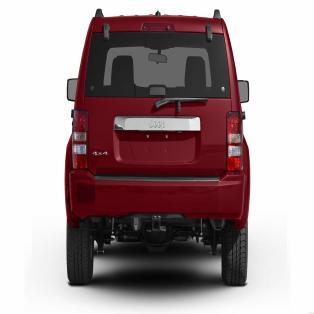Auto: (62, 7, 249, 286)
